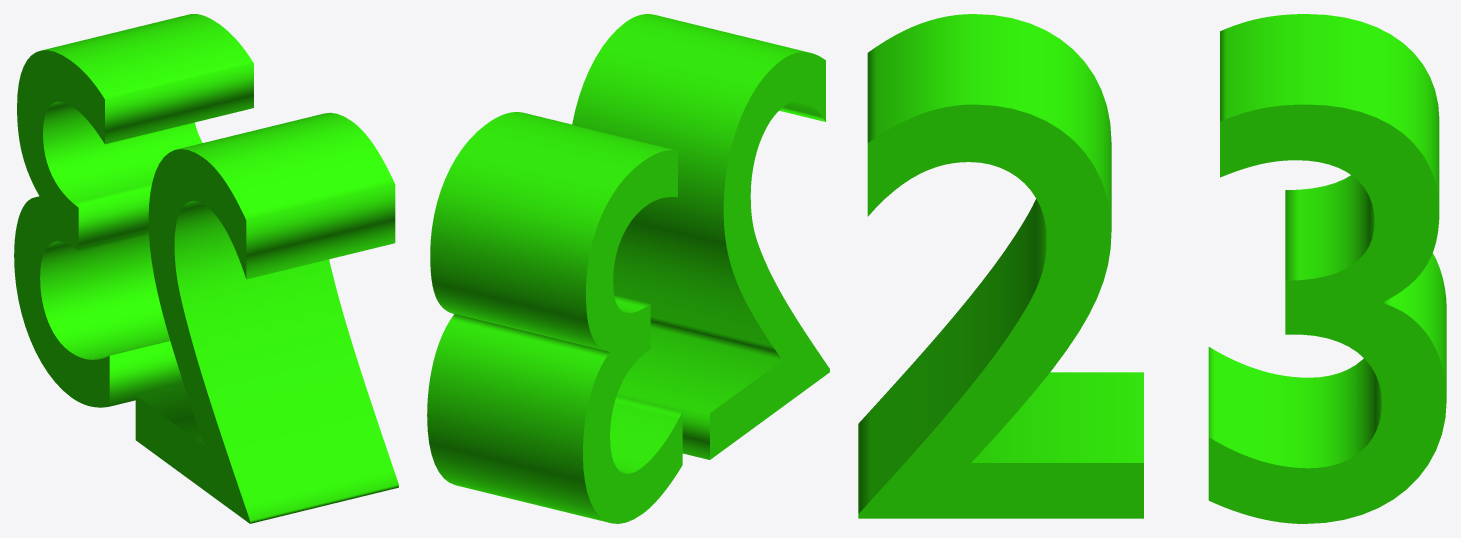
The model's file is number23.obj.
The picture shows the model from 3 angles, left to right: view 1: azimuth 30°, elevation 25°; view 2: azimuth 150°, elevation 25°; view 3: azimuth 270°, elevation 25°; orthographic projection. The views are drawn at different scales.
Visible parts, largest first — view 1: Text.022_Text.029; view 2: Text.022_Text.029; view 3: Text.022_Text.029.
Boxes of the visible parts, x1=… form: Text.022_Text.029: x1=14, y1=14, x2=398, y2=523; Text.022_Text.029: x1=427, y1=14, x2=829, y2=523; Text.022_Text.029: x1=858, y1=14, x2=1446, y2=523.
Size of the model in its own units: 2.23 by 4.83 by 6.14.
